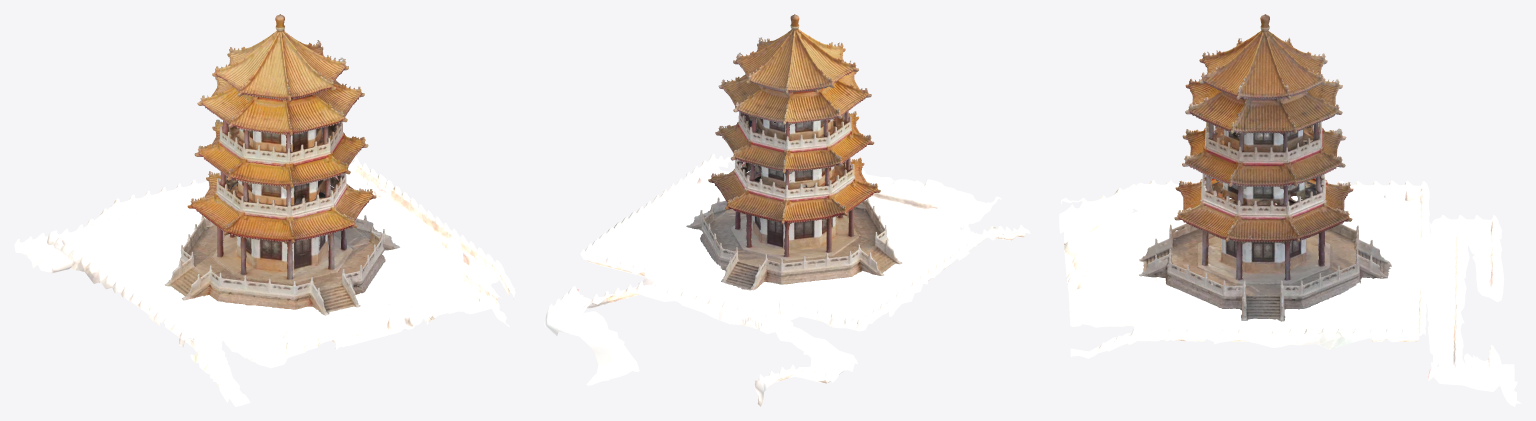
The model's file is chinese_pagoda.glb.
3 views of the same model, side by side, from view 1: azimuth 30°, elevation 25°; view 2: azimuth 150°, elevation 25°; view 3: azimuth 270°, elevation 25° (orthographic). The views are drawn at different scales.
Parts seen in each view (by area): view 1: Object_3, Object_2; view 2: Object_2, Object_3; view 3: Object_2, Object_3.
Part boxes in pixels (x1,y1,x2,y2): Object_3: (165, 14, 399, 315); Object_2: (14, 157, 515, 406); Object_2: (544, 154, 1030, 406); Object_3: (686, 14, 901, 290); Object_2: (1059, 180, 1521, 406); Object_3: (1139, 14, 1391, 321).
Size of the model in its own units: 32.93 by 33.23 by 40.75.
2 materials, 1 textured.
